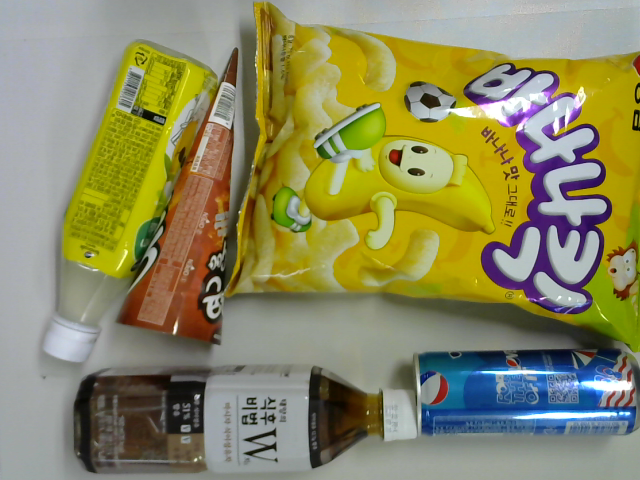Banana_Kick: (223, 1, 640, 353)
GooGoo_Cone_CVS: (116, 43, 239, 344)
Pepsi_Cola_Can_250ml: (411, 348, 640, 434)
Post-meal_recipe_W_tea_500ml: (70, 358, 421, 473)
Sunkist_Lemonaid_Pet: (43, 38, 216, 369)
